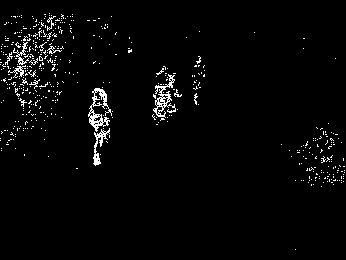person: (86, 87, 116, 169)
